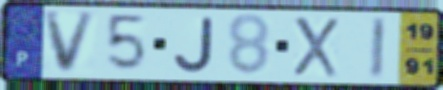5: (103, 13, 149, 75)
8: (225, 12, 276, 80)
I: (367, 15, 389, 81)
J: (170, 15, 216, 75)
V: (41, 9, 100, 76)
X: (291, 15, 340, 79)
